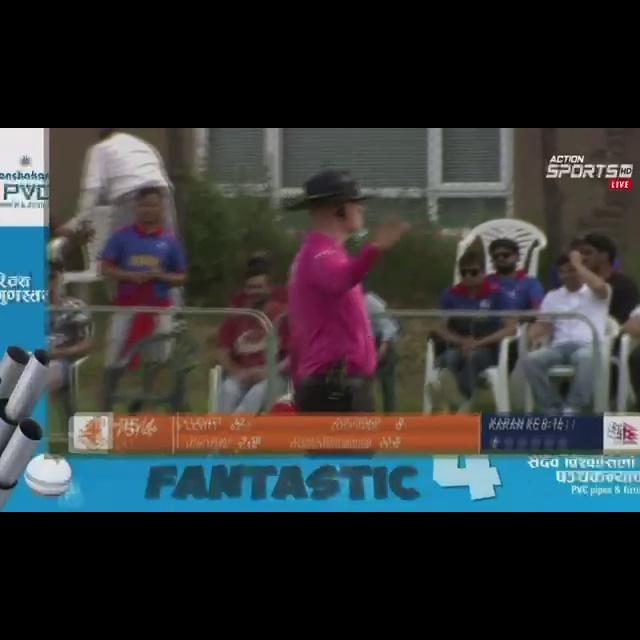umpire: (284, 161, 443, 403)
